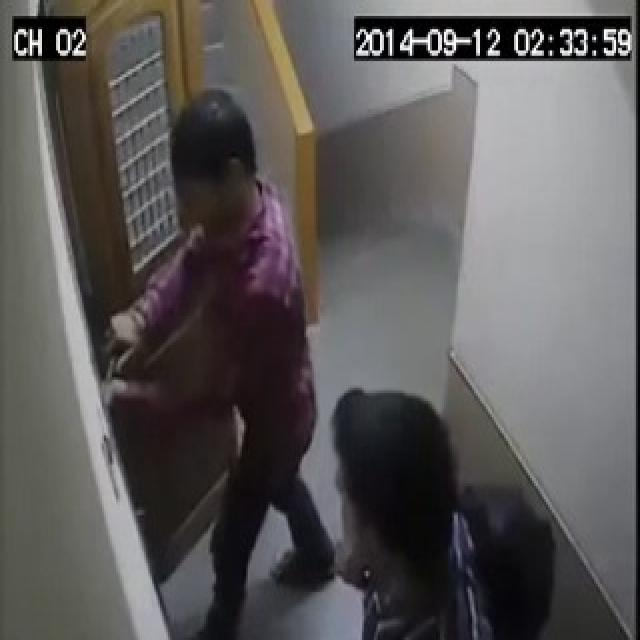thief: (69, 88, 489, 640)
